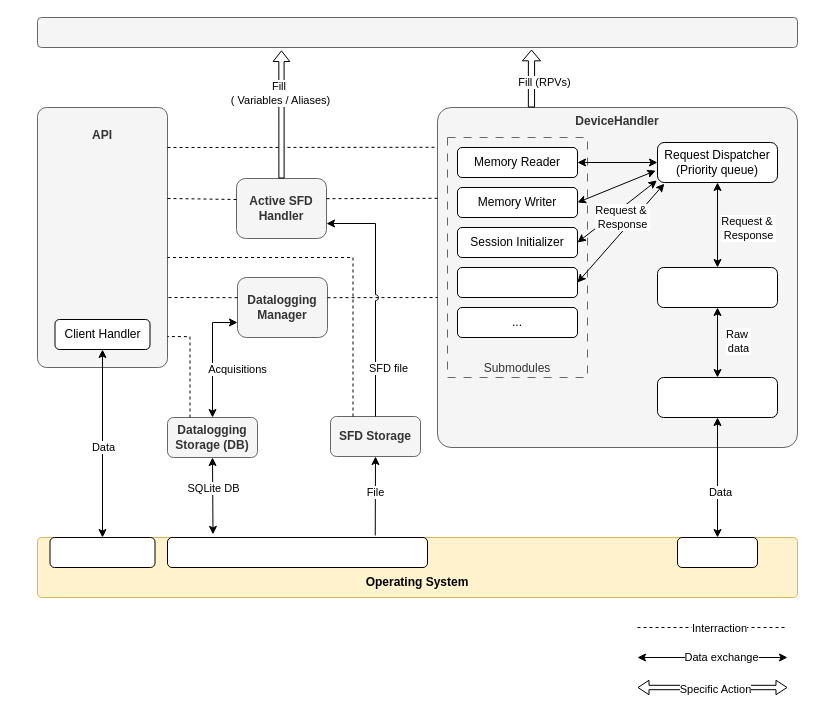
This 815x713 diagram has some shape labels left out. Each missing label, with the centre of its shape:
"Comm. Handler" belongs at point 717,287.
"Datalogging Poller" belongs at point 517,282.
"Datastore (Global service)" belongs at point 417,32.
"File System" belongs at point 297,552.
"IO" belongs at point 717,552.
"Link (Serial, CAN, etc.)" belongs at point 717,397.
"Network stack" belongs at point 102,552.
